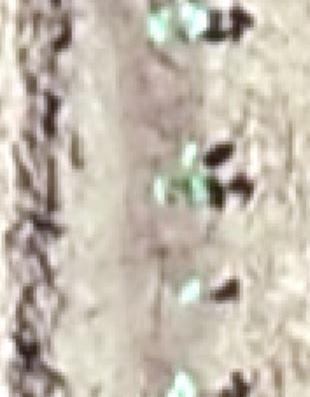cotton: (183, 3, 205, 36), (149, 10, 170, 40), (188, 175, 210, 202), (173, 373, 193, 397), (153, 176, 170, 202), (185, 277, 197, 300), (187, 142, 196, 163)
